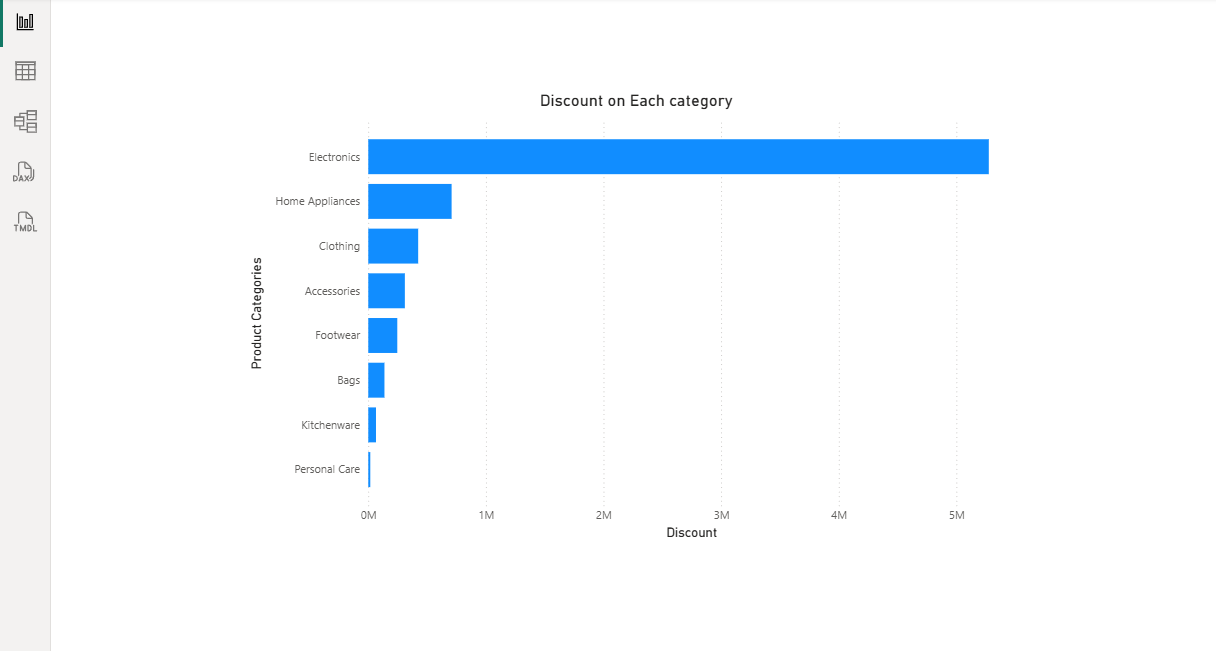

What the dashboard file says about the page in this screenshot:
{"tool":"powerbi","page":{"name":"Discount and category","canvas":[1280,720],"ordinal":3},"visuals":[{"type":"barChart","title":"Discount on Each category","fields":{"Category":["Dim Product.Product Line"],"Y":["Sum(Fact table.Discount)"]},"box":[212.9,102.9,860,498.6],"z":0}]}

Visuals, with their boxes on the page's 1280x720 design canvas (x1, y1, x2, y2). These are canvas units, not pixel positions in the 1216x651 screenshot, which may show the page scaled, cropped or inside an application window:
"Discount on Each category" barChart: {"left": 213, "top": 103, "right": 1073, "bottom": 602}
